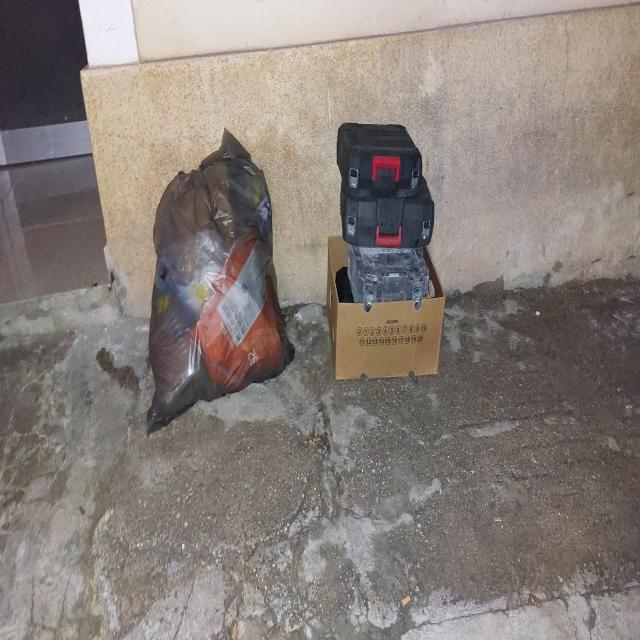Mixed Waste -Black Bag-: (142, 136, 299, 432)
Other: (322, 227, 447, 375), (333, 120, 425, 201), (340, 178, 436, 247), (345, 247, 431, 301)
